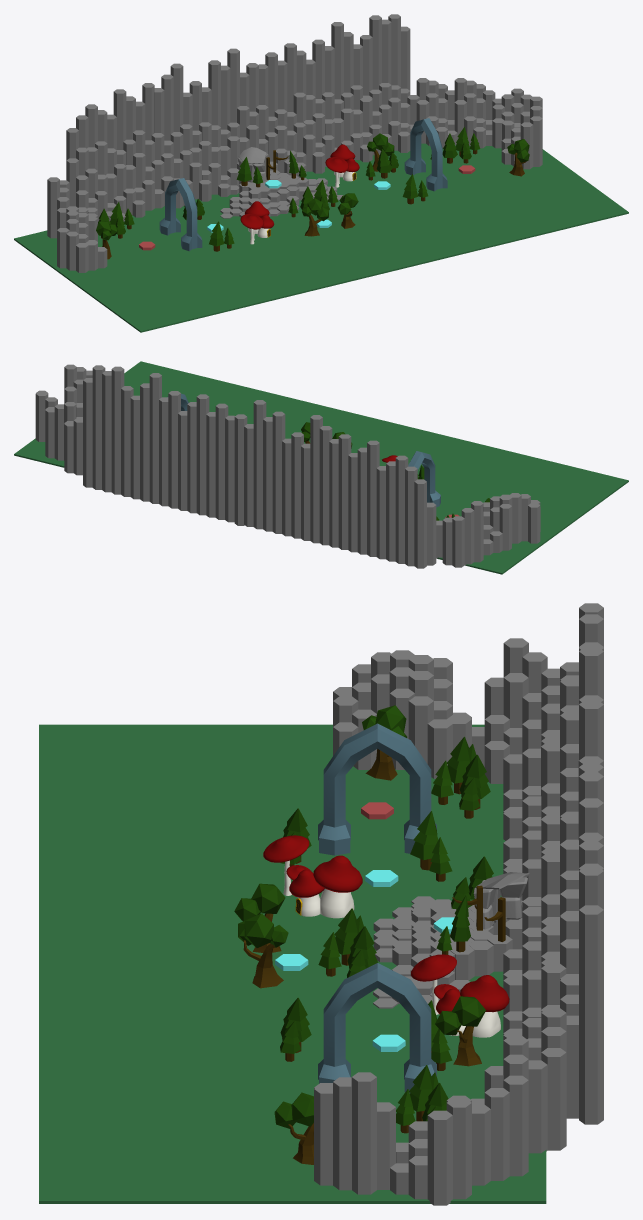
Rendered from World1_Map.fbx.
The picture shows the model from 3 angles, top to bottom: view 1: azimuth 30°, elevation 25°; view 2: azimuth 150°, elevation 25°; view 3: azimuth 270°, elevation 25°; orthographic projection. The views are drawn at different scales.
Visible parts, largest first — view 1: pCube140, pCylinder296, pCylinder92, pCylinder550, pCylinder536, pCylinder569, pCylinder539, pCylinder542, pCylinder562, pCylinder543, pCylinder552, pCylinder563 (+19 smaller); view 2: pCube140, pCylinder543, pCylinder550, pCylinder539, pCylinder536, pCylinder552, pCylinder542, pCylinder553, pCylinder569, pCylinder562, pCylinder563, pCylinder535 (+40 smaller); view 3: pCube140, pCylinder92, pCylinder296, pCylinder560, pCylinder401, pCylinder390, pCylinder399, pCylinder365, pCylinder377, pCylinder385, pCylinder397, pCylinder371 (+21 smaller).
Part boxes in pixels (x1,y1,x2,y2): pCube140: (14, 143, 628, 332); pCylinder296: (404, 118, 447, 191); pCylinder92: (159, 178, 202, 251); pCylinder550: (331, 22, 343, 99); pCylinder536: (369, 15, 381, 89); pCylinder569: (170, 63, 183, 131); pCylinder539: (227, 48, 239, 122); pCylinder542: (208, 60, 220, 126); pCylinder562: (388, 14, 400, 87); pCylinder543: (284, 43, 296, 111); pCylinder552: (161, 74, 173, 140); pCylinder563: (113, 89, 126, 149); pCube140: (14, 361, 628, 574); pCylinder543: (196, 394, 209, 515); pCylinder550: (149, 373, 161, 503); pCylinder539: (253, 400, 266, 529); pCylinder536: (111, 366, 124, 494); pCylinder552: (319, 426, 332, 545); pCylinder542: (272, 411, 285, 533); pCylinder553: (338, 434, 351, 549); pCylinder569: (310, 415, 322, 543); pCylinder562: (92, 365, 105, 489); pCylinder563: (367, 440, 379, 556); pCylinder535: (168, 391, 180, 508); pCube140: (39, 724, 546, 1203); pCylinder92: (318, 723, 436, 855); pCylinder296: (318, 963, 436, 1092); pCylinder560: (579, 905, 603, 1124); pCylinder401: (351, 1072, 376, 1194); pCylinder390: (427, 1110, 452, 1205); pCylinder399: (333, 1077, 351, 1190); pCylinder365: (541, 1048, 566, 1150); pCylinder377: (503, 1075, 528, 1176); pCylinder385: (446, 1098, 471, 1199); pCylinder397: (314, 1084, 332, 1185); pCylinder371: (484, 1088, 509, 1180).
Size of the model in its own units: 1209 by 299 by 602.
